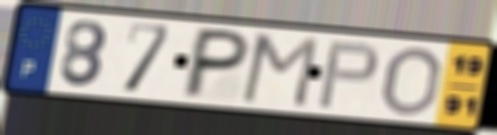7: (122, 21, 173, 96)
8: (58, 19, 109, 89)
M: (237, 31, 323, 110)
O: (378, 44, 445, 118)
P: (177, 25, 255, 101), (314, 40, 382, 111)
